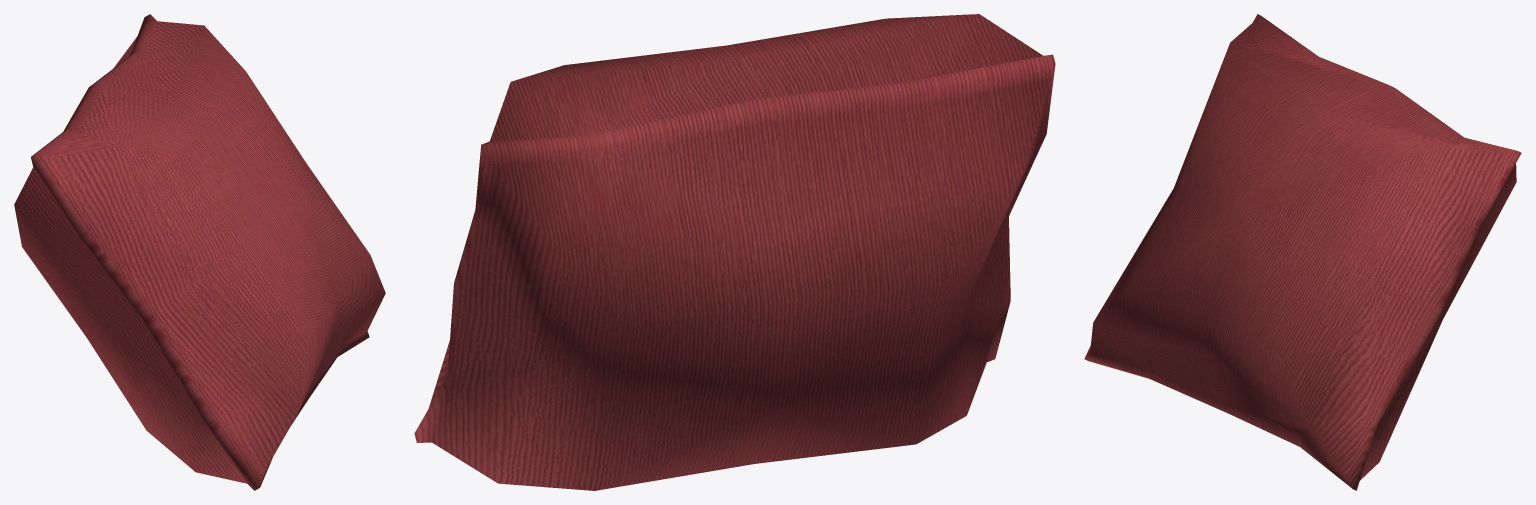
Rendered from SofaSetCushionRed.FBX.
3 renders of one model, left to right at view 1: azimuth 30°, elevation 25°; view 2: azimuth 150°, elevation 25°; view 3: azimuth 270°, elevation 25°, orthographic. The views are drawn at different scales.
Visible parts, largest first — view 1: Living_Room_Cushion_Red; view 2: Living_Room_Cushion_Red; view 3: Living_Room_Cushion_Red.
Boxes of the visible parts, x1=… form: Living_Room_Cushion_Red: x1=14, y1=14, x2=385, y2=490; Living_Room_Cushion_Red: x1=414, y1=14, x2=1055, y2=490; Living_Room_Cushion_Red: x1=1084, y1=14, x2=1521, y2=490.
Size of the model in its own units: 61.76 by 49.01 by 63.77.
1 material, 1 textured.
